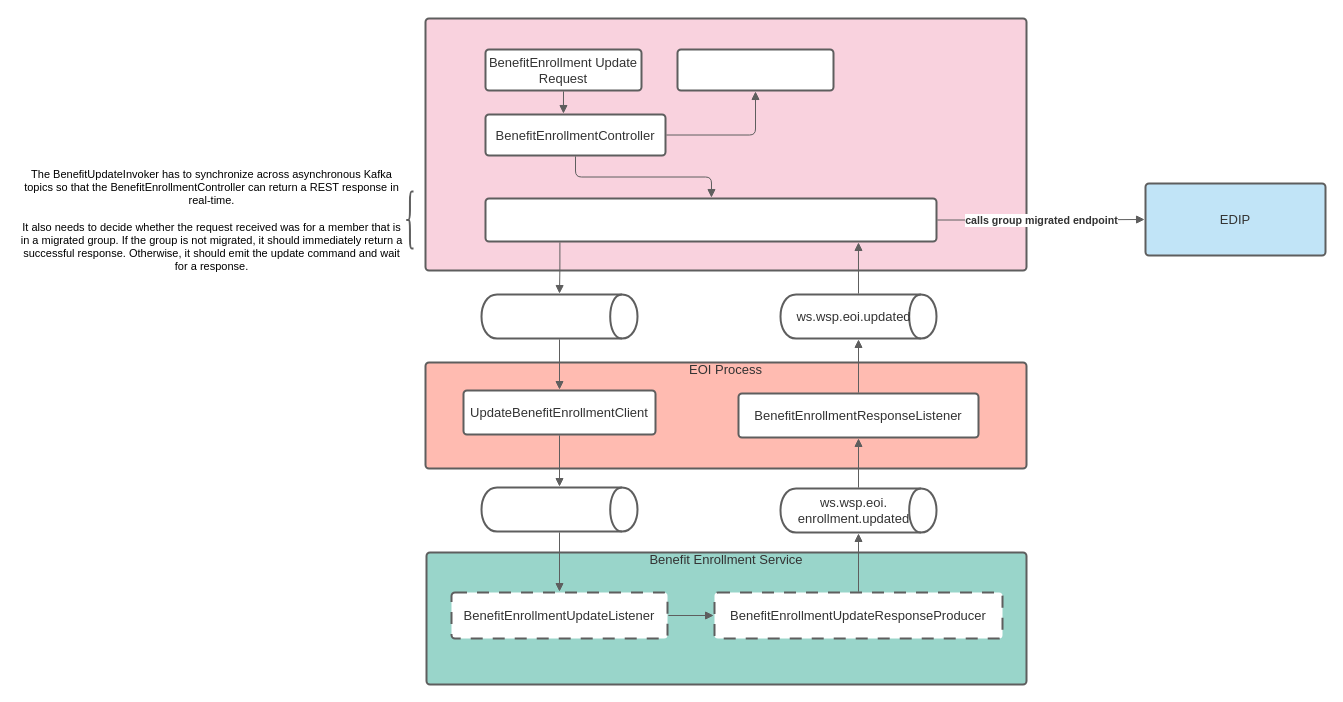
Some shapes in this 1343 by 702 pixel diagram are drawn without their labels. Each missing label, with the box of its shape:
BenefitEnrollment UpdateResponse: (676, 48, 834, 91)
BenefitUpdateInvoker: (484, 197, 937, 242)
TOGA ACL: (424, 17, 1027, 271)
ws.wsp.eoi. enrollment.update: (480, 486, 638, 532)
ws.wsp.eoi.update: (480, 293, 638, 339)
